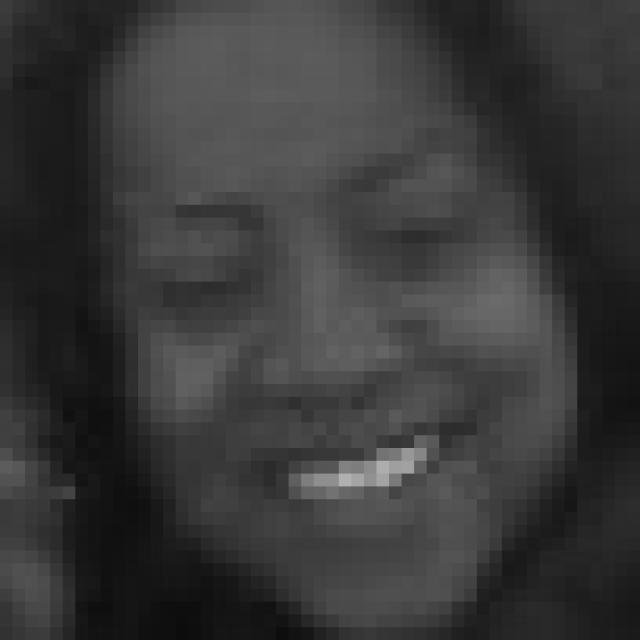real: (76, 0, 568, 596), (140, 171, 502, 317)
